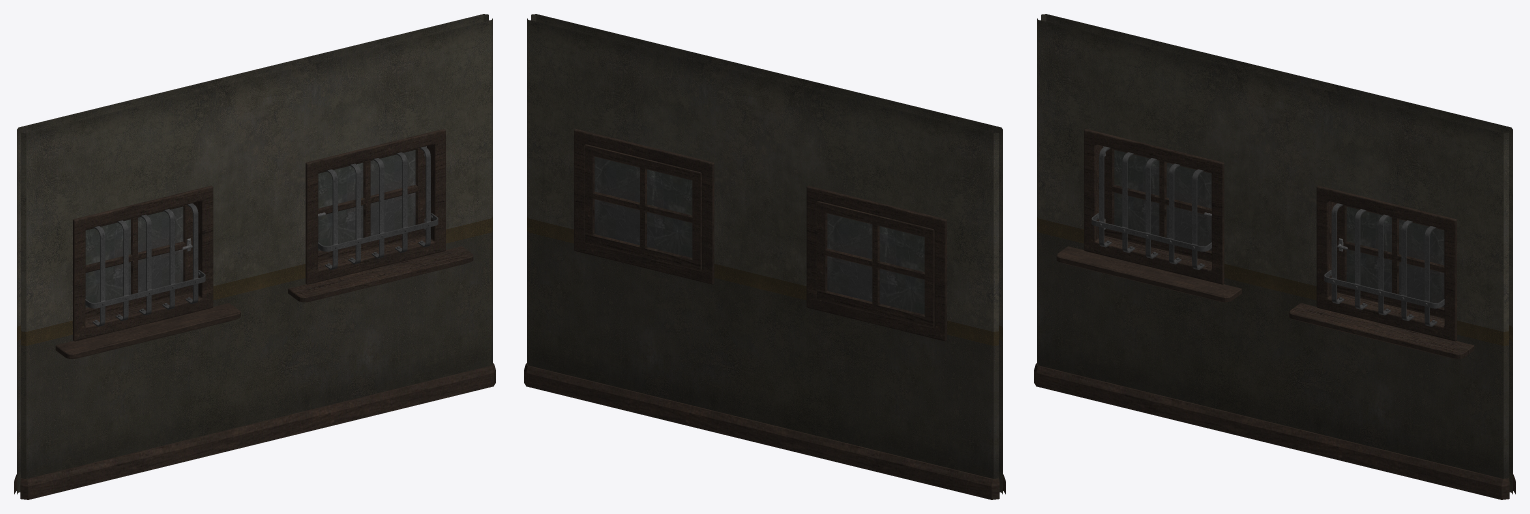
The model's file is window_1_double.obj.
3 renders of one model, left to right at view 1: azimuth 30°, elevation 25°; view 2: azimuth 150°, elevation 25°; view 3: azimuth 330°, elevation 25°, orthographic.
Parts seen in each view (by area): view 1: window_1_double, metal_bars_double; view 2: window_1_double; view 3: window_1_double, metal_bars_double.
Boxes of the visible parts, x1,y1,x2,y2 form: window_1_double: [14, 14, 495, 499]; metal_bars_double: [85, 146, 438, 326]; window_1_double: [524, 14, 1005, 499]; window_1_double: [1034, 14, 1515, 499]; metal_bars_double: [1091, 146, 1444, 326].
Size of the model in its own units: 4.09 by 3 by 0.35.
